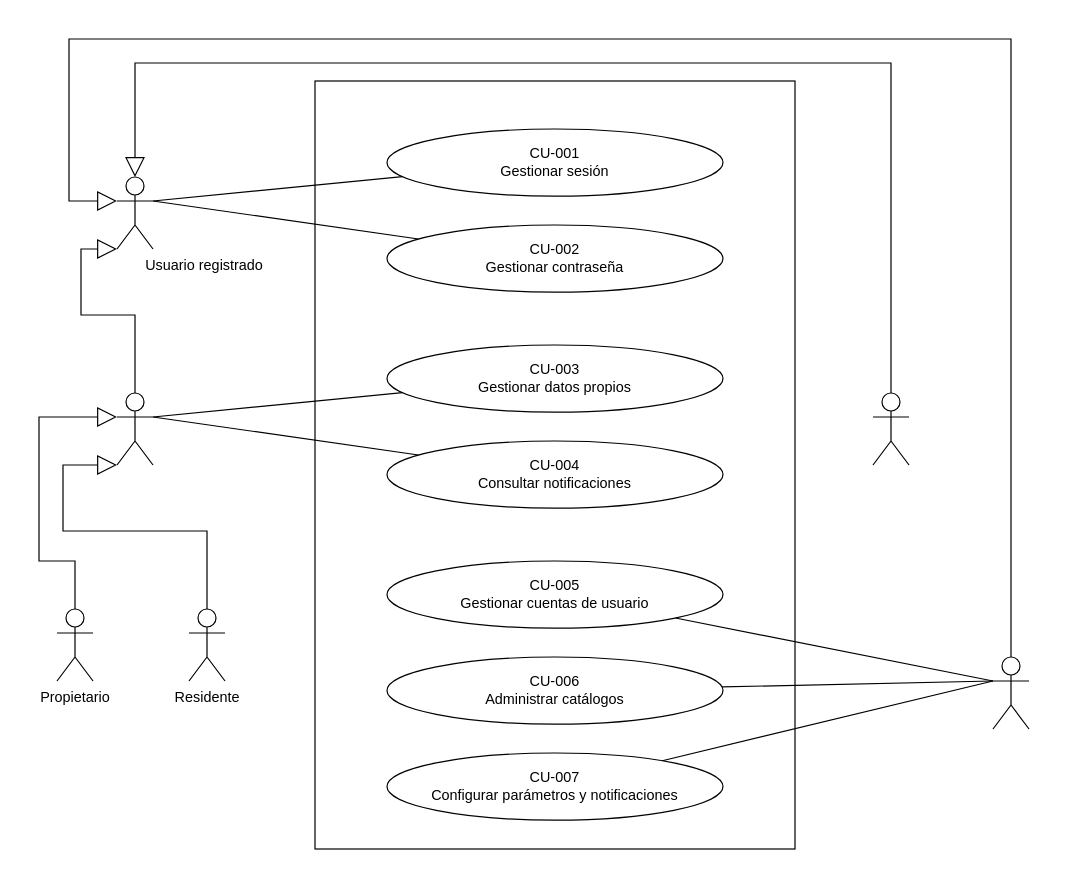
Image size: 1076x870. Some labels were removed from this diagram. The shapes that lost their labels are listed below. From the top down, each one's box as (x1, y1, x2, y2) in pixels, then its label:
(116, 392, 153, 465): Persona vinculada
(872, 392, 909, 465): Vigilante
(314, 80, 795, 849): Módulo Transversal
(992, 656, 1029, 729): Administrador
